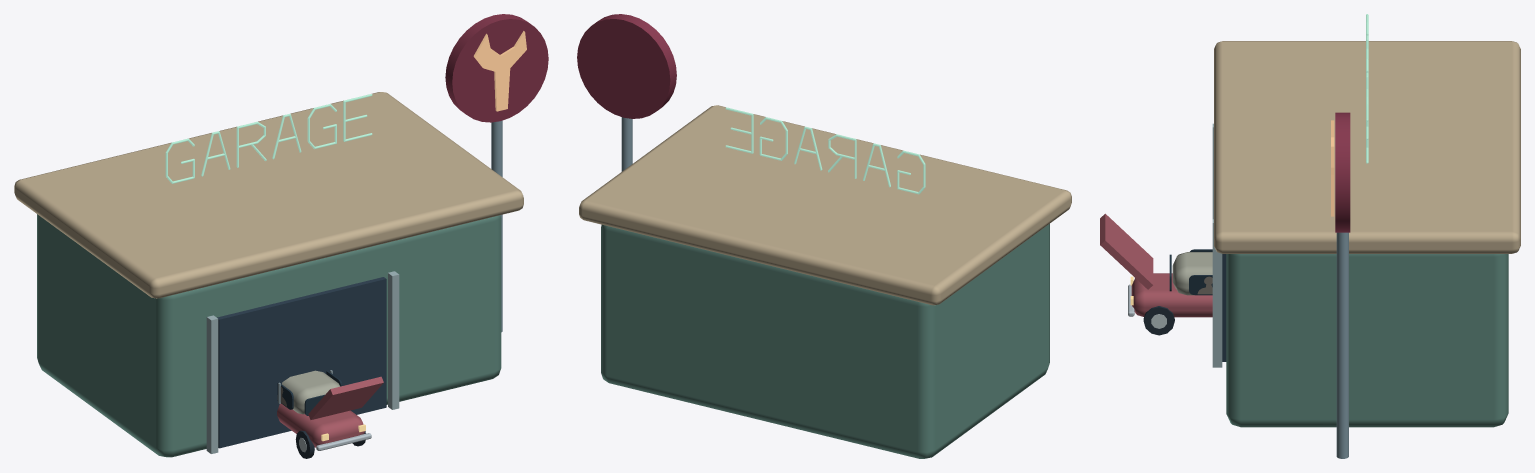
The model's file is garage-map.glb.
3 renders of one model, left to right at view 1: azimuth 30°, elevation 25°; view 2: azimuth 150°, elevation 25°; view 3: azimuth 270°, elevation 25°, orthographic. The views are drawn at different scales.
Visible parts, largest first — view 1: garage; view 2: garage; view 3: garage.
Boxes of the visible parts, left/top/right/bottom form: garage: left=14, top=14, right=548, bottom=458; garage: left=577, top=14, right=1071, bottom=458; garage: left=1100, top=14, right=1520, bottom=458.
Size of the model in its own units: 4.59 by 3.04 by 3.43.
